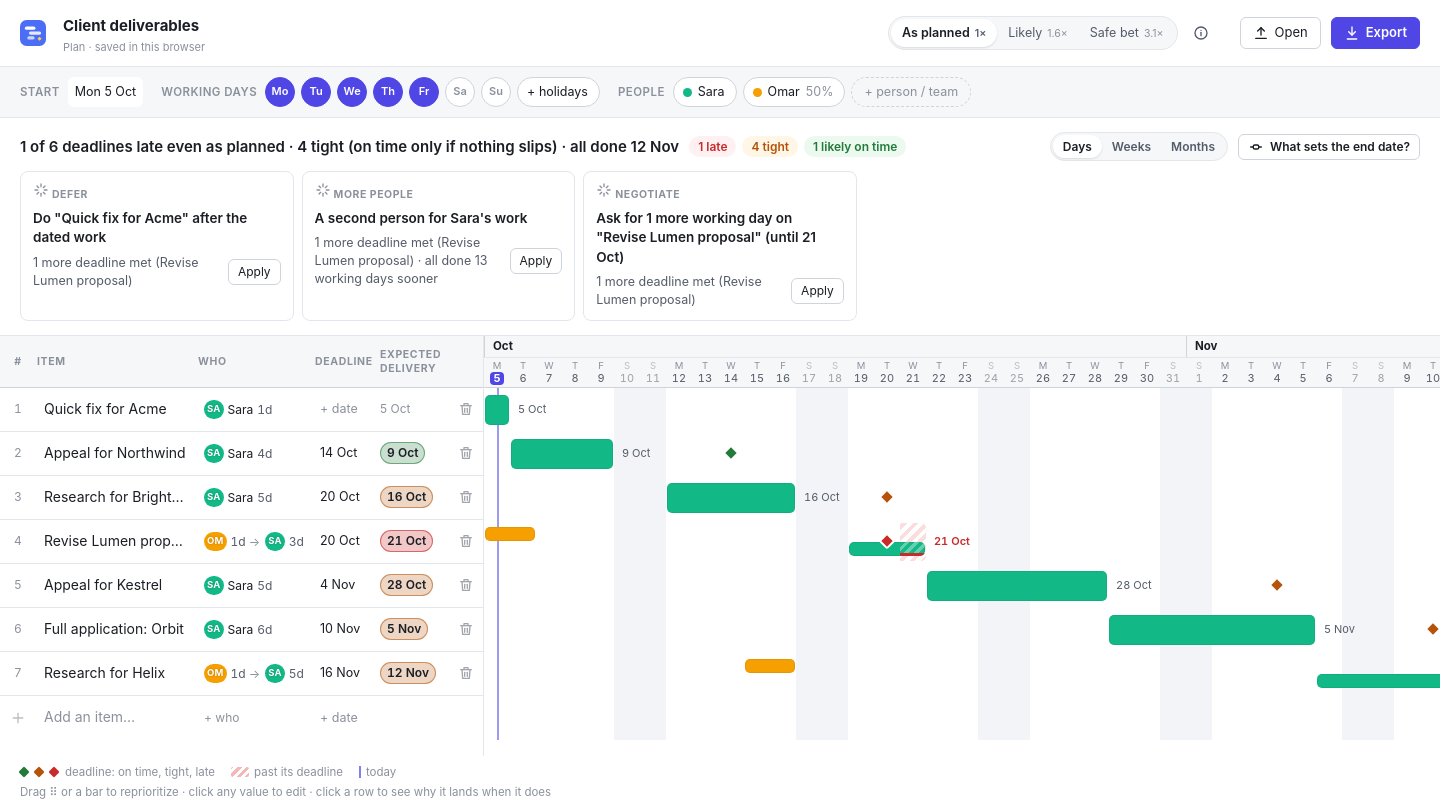
Test: the item inspector and day chips › who editor: one bordered row per person under a header row
The image size is (1440, 810).
Click the button with class "who-cell" showing "OM 1d → SA 3d": (254, 541) [198,526,310,556]
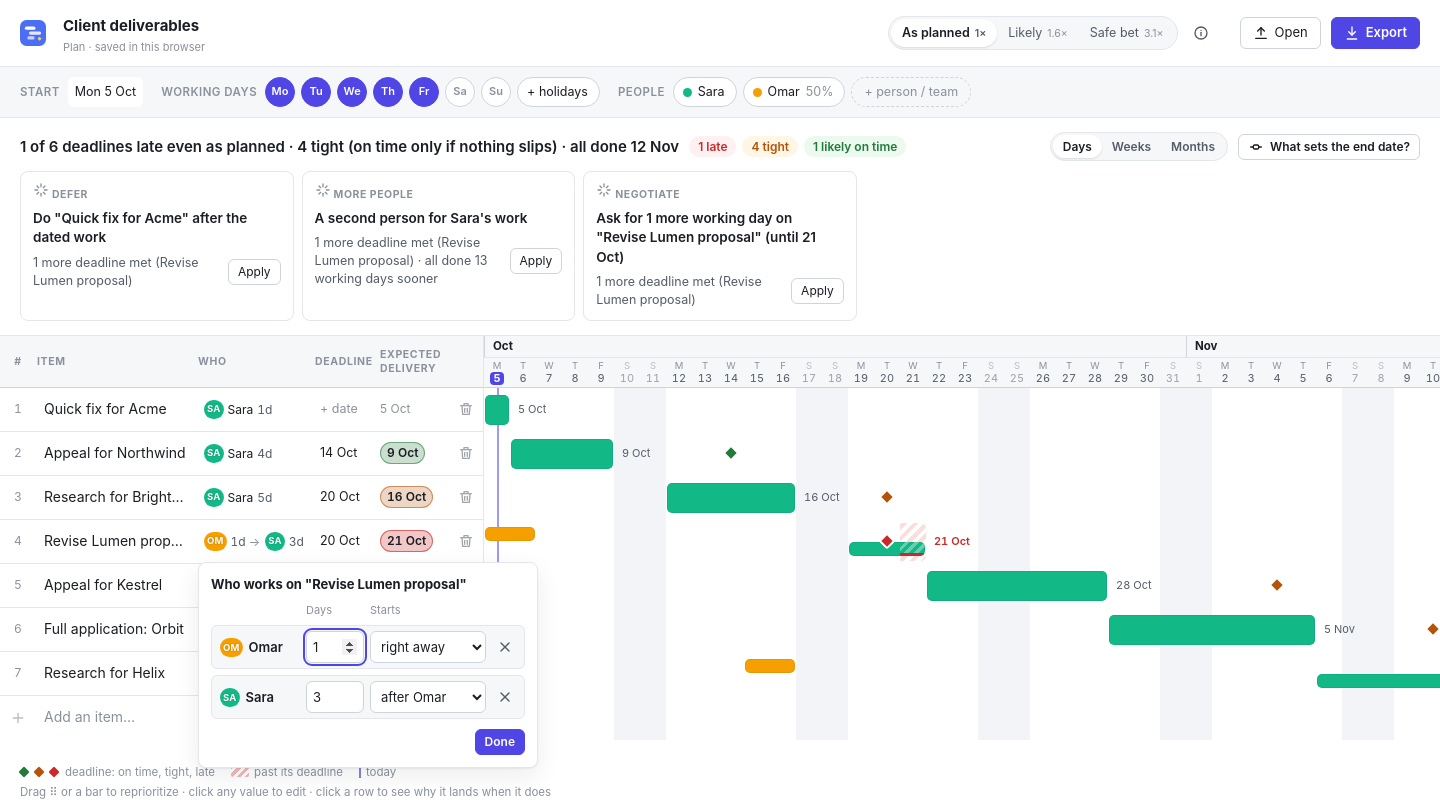
Check: the number of elements with class "who-head" is 1, box [306,602,400,616]
